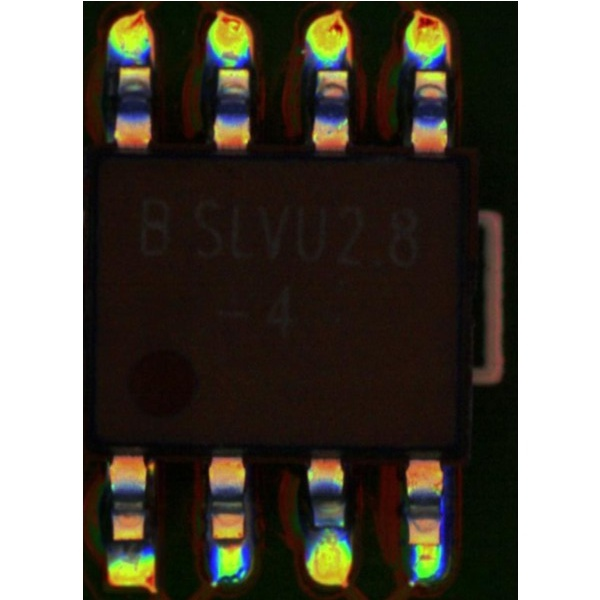Bad_podu: (216, 529, 242, 553), (420, 524, 435, 563)
